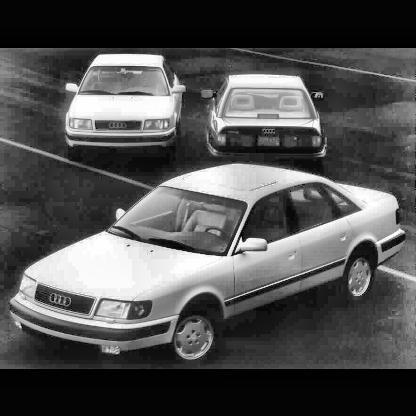Audi 100 Sedan 1994: (10, 162, 406, 367)
